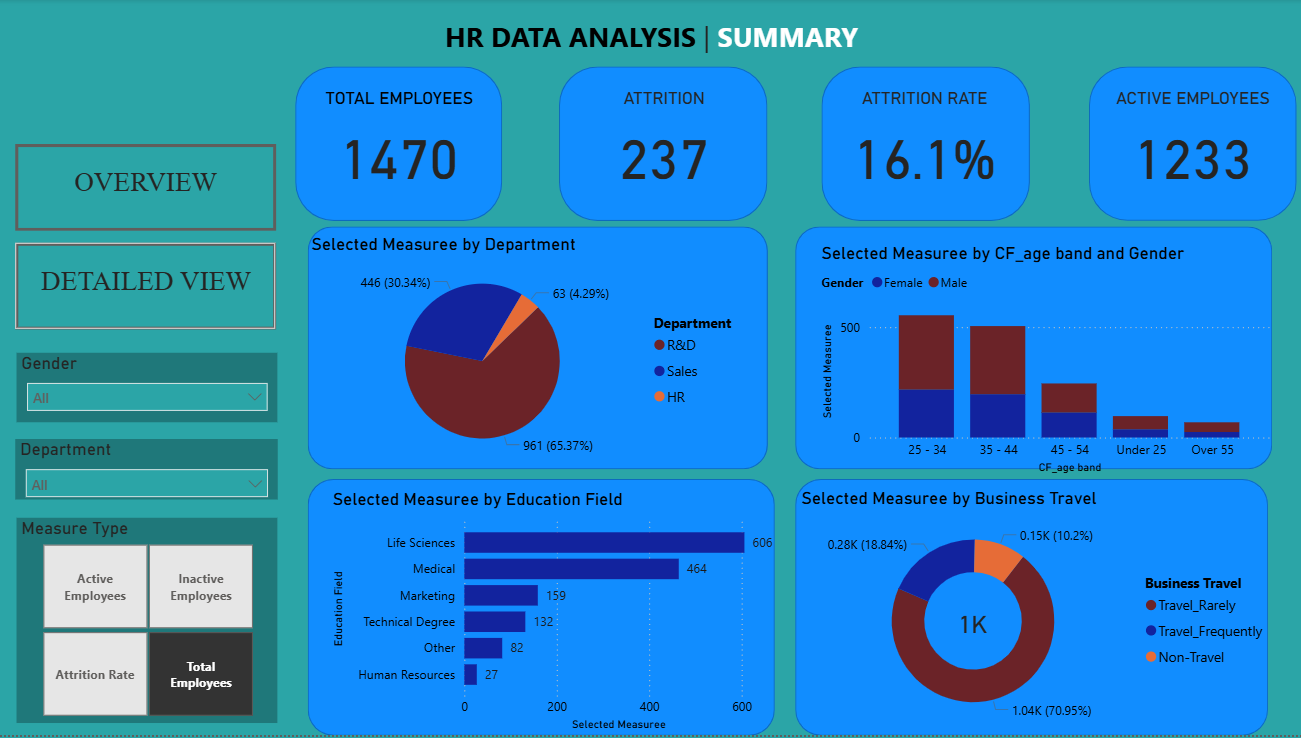

What the dashboard file says about the page in this screenshot:
{"tool":"powerbi","page":{"name":"SUMMARY","canvas":[1280,720],"ordinal":0},"visuals":[{"type":"shape","box":[1066.2,66.2,203.1,150.9],"z":0,"group":"g1"},{"type":"shape","box":[779.4,222.3,466.6,237.4],"z":0},{"type":"shape","box":[804.6,65.9,203.8,151.1],"z":500,"group":"g1"},{"type":"shape","box":[548,65.9,203.8,151.1],"z":750,"group":"g1"},{"type":"shape","box":[290,65.9,202.4,151.1],"z":875,"group":"g1"},{"type":"card","title":"TOTAL EMPLOYEES","fields":{"Values":["CountNonNull(Hr Data.emp no)"]},"box":[278.6,87.3,225.2,108.3],"z":1000,"group":"g1"},{"type":"shape","box":[301.9,222.3,450.1,237.4],"z":1000},{"type":"card","title":"ATTRITION","fields":{"Values":["Hr Data.Active Employees"]},"box":[538,87.3,225.2,108.3],"z":2000,"group":"g1"},{"type":"shape","box":[779.4,469.3,462.4,251.1],"z":2000},{"type":"card","title":"ACTIVE EMPLOYEES","fields":{"Values":["Hr Data.Active Employees"]},"box":[1055.3,86.8,225,108.4],"z":3000,"group":"g1"},{"type":"shape","box":[301.9,469.3,456.9,251.1],"z":3000},{"type":"card","title":"ATTRITION RATE","fields":{"Values":["Hr Data.ATTRITION RATE"]},"box":[793.2,87.3,223.8,108.3],"z":4000,"group":"g1"},{"type":"pieChart","fields":{"Category":["Hr Data.Department"],"Y":["Hr Data.Selected Measuree"]},"box":[301.3,229.8,437.4,229.8],"z":4000},{"type":"columnChart","fields":{"Category":["Hr Data.CF_age band"],"Series":["Hr Data.Gender"],"Y":["Hr Data.Selected Measuree"]},"box":[800,238.8,448.7,230.5],"z":5000},{"type":"barChart","fields":{"Category":["Hr Data.Education Field"],"Y":["Hr Data.Selected Measuree"]},"box":[321.1,478.9,451.5,241.5],"z":6000},{"type":"donutChart","fields":{"Category":["Hr Data.Business Travel"],"Y":["Hr Data.Selected Measuree"]},"box":[779.6,478.3,469.8,241.7],"z":7000},{"type":"textbox","box":[419.9,13.7,437.7,60.4],"z":8000},{"type":"group","id":"g1","title":"Group 1","box":[278.6,65.9,1001.7,150.9],"z":9000},{"type":"slicer","title":"Measure Type","fields":{"Values":["Measurees.Measurees"]},"box":[17,507.2,255.3,200.9],"z":10000},{"type":"slicer","title":"Gender","fields":{"Values":["Hr Data.Gender"]},"box":[17,345.5,255.3,68.1],"z":11000},{"type":"slicer","title":"Department","fields":{"Values":["Hr Data.Department"]},"box":[15.3,430.6,257,59.6],"z":12000},{"type":"card","fields":{"Values":["Hr Data.Selected Measuree"]},"box":[880,531.1,144.7,160],"z":13000},{"type":"textbox","box":[15.3,141.3,255.3,81.7],"z":14000},{"type":"textbox","box":[17,238.3,253.6,85.1],"z":15000},{"type":"actionButton","box":[15.3,238.3,255.3,85.1],"z":16000},{"type":"actionButton","box":[15.3,141.3,255.3,85.1],"z":17000},{"type":"image","box":[63,0,160,97],"z":18000}]}

Visuals, with their boxes in screenshot pixels (x1, y1, x2, y2), scaled from the page's 1280x720 canvas onto the 1301x738 screenshot:
shape: <region>1084, 68, 1290, 223</region>
shape: <region>792, 228, 1266, 471</region>
shape: <region>818, 68, 1025, 222</region>
shape: <region>557, 68, 764, 222</region>
shape: <region>295, 68, 500, 222</region>
"TOTAL EMPLOYEES" card: <region>283, 89, 512, 200</region>
shape: <region>307, 228, 764, 471</region>
"ATTRITION" card: <region>547, 89, 776, 200</region>
shape: <region>792, 481, 1262, 737</region>
"ACTIVE EMPLOYEES" card: <region>1073, 89, 1300, 200</region>
shape: <region>307, 481, 771, 737</region>
"ATTRITION RATE" card: <region>806, 89, 1034, 200</region>
pieChart - Hr Data.Department x Hr Data.Selected Measuree: <region>306, 236, 751, 471</region>
columnChart - Hr Data.CF_age band x Hr Data.Gender: <region>813, 245, 1269, 481</region>
barChart - Hr Data.Education Field x Hr Data.Selected Measuree: <region>326, 491, 785, 737</region>
donutChart - Hr Data.Business Travel x Hr Data.Selected Measuree: <region>792, 490, 1270, 737</region>
textbox: <region>427, 14, 872, 76</region>
"Group 1" group: <region>283, 68, 1300, 222</region>
"Measure Type" slicer: <region>17, 520, 277, 726</region>
"Gender" slicer: <region>17, 354, 277, 424</region>
"Department" slicer: <region>16, 441, 277, 502</region>
card - Hr Data.Selected Measuree: <region>894, 544, 1042, 708</region>
textbox: <region>16, 145, 275, 229</region>
textbox: <region>17, 244, 275, 331</region>
actionButton: <region>16, 244, 275, 331</region>
actionButton: <region>16, 145, 275, 232</region>
image: <region>64, 0, 227, 99</region>
